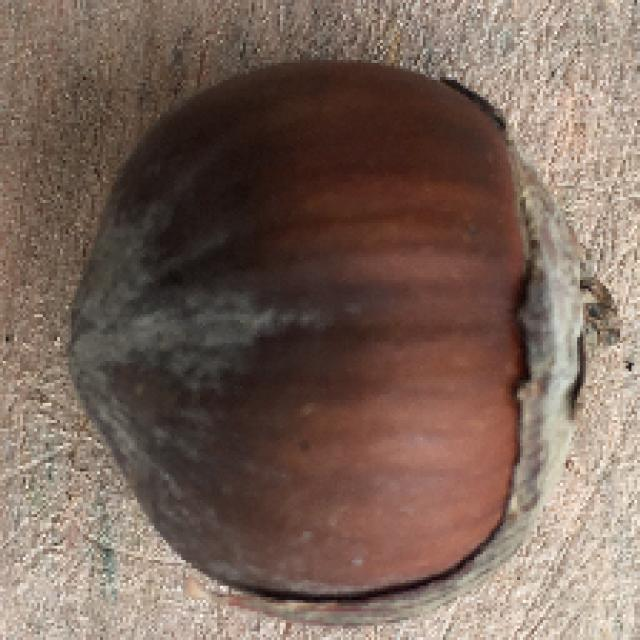damagedHazelnut: (48, 45, 640, 625)
